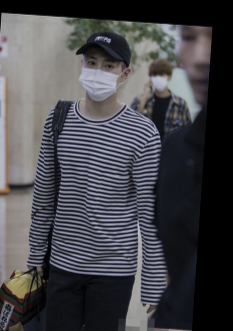with_mask: (80, 54, 122, 102), (149, 71, 167, 93)
without_mask: (176, 26, 209, 102)
